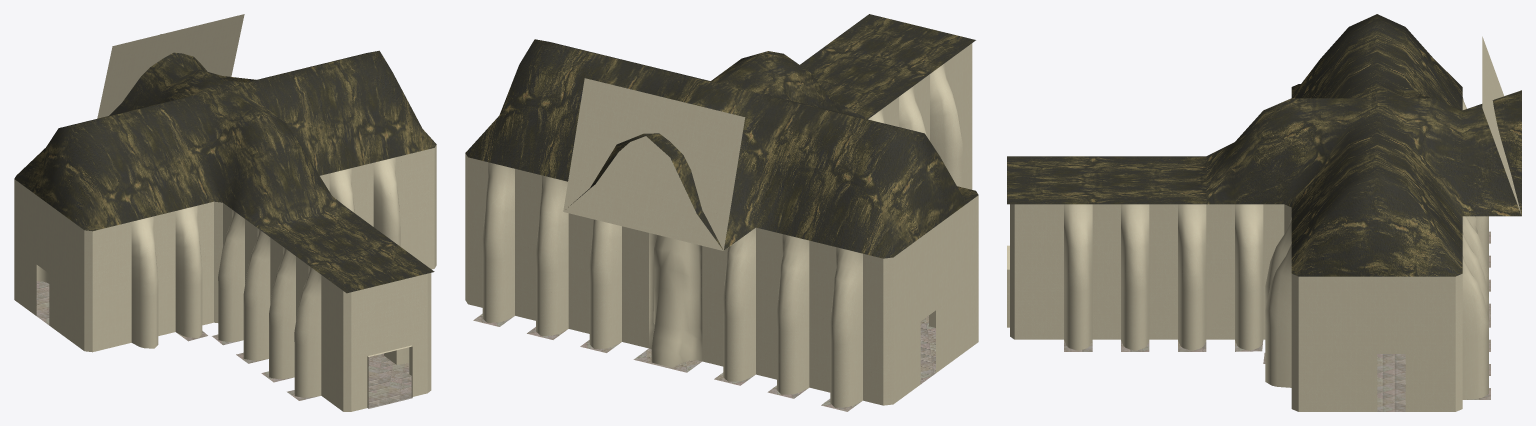
The model's file is chapel.glb.
3 views of the same model, side by side, from view 1: azimuth 30°, elevation 25°; view 2: azimuth 150°, elevation 25°; view 3: azimuth 270°, elevation 25° (orthographic). The views are drawn at different scales.
Visible parts, largest first — view 1: Chapel, Roof; view 2: Chapel, Roof; view 3: Chapel, Roof.
Boxes of the visible parts, x1,y1,x2,y2 form: Chapel: [14, 14, 436, 411]; Roof: [14, 34, 436, 293]; Chapel: [465, 43, 978, 411]; Roof: [465, 14, 978, 258]; Chapel: [1007, 36, 1521, 411]; Roof: [1007, 14, 1521, 276].
Size of what is drawn, in the model's own units: 16 by 9.47 by 18.08.
3 materials, 3 textured.
